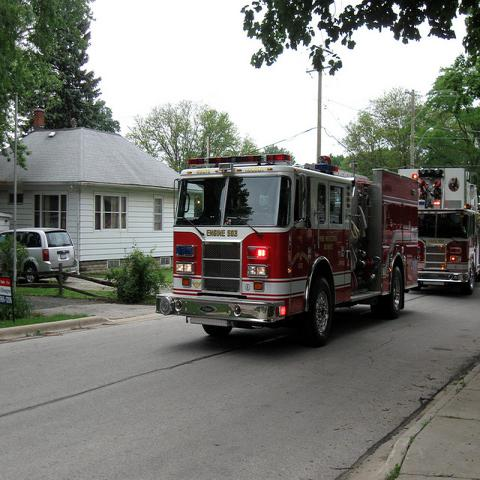car: (0, 228, 79, 284)
truck: (158, 150, 422, 340), (398, 167, 479, 296)
